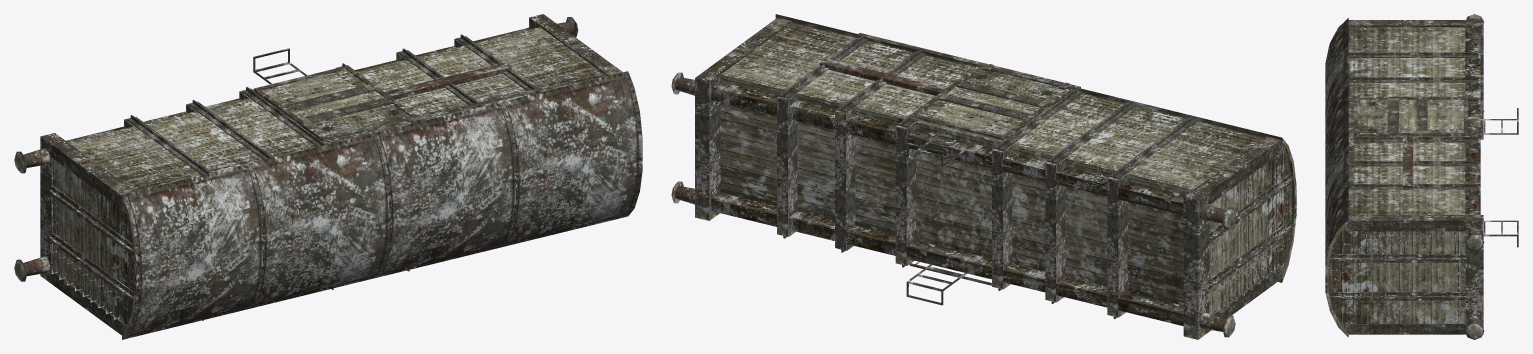
Rendered from prop_traincar01_snow.glb.
3 views of the same model, side by side, from view 1: azimuth 30°, elevation 25°; view 2: azimuth 150°, elevation 25°; view 3: azimuth 270°, elevation 25° (orthographic). The views are drawn at different scales.
Bounding box in the file's own units: 406 × 107 × 150.
Materials: 1 (1 with a texture image).
